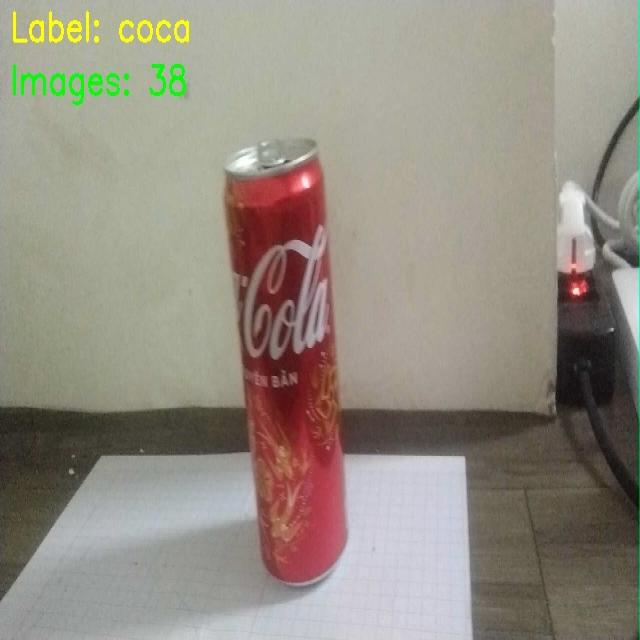Coca: (189, 127, 406, 615)
